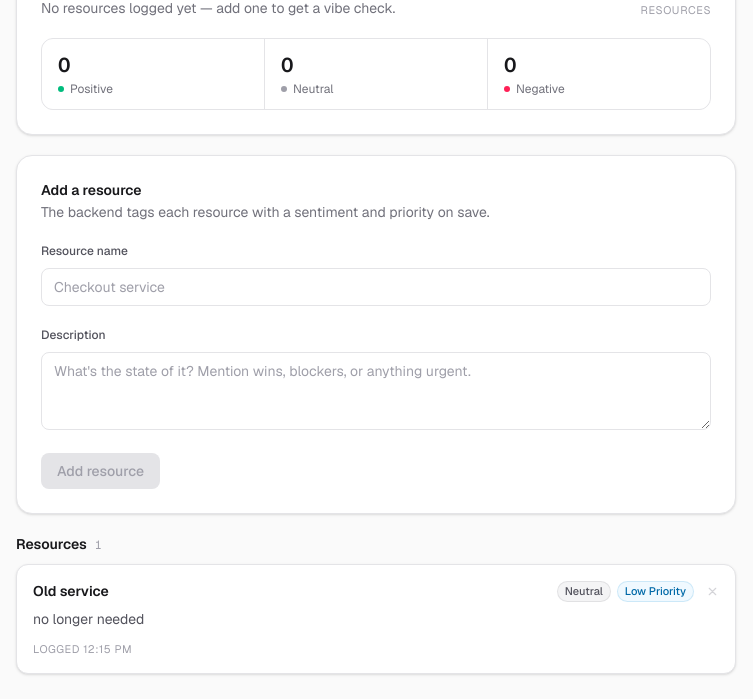
Test: App › deletes a resource when its delete button is clicked
(page scrolled)
Expected: the heading "Old service" is shown, [33, 581, 109, 601]
What coordinates should you click on to do the following:
click the button named "delete old service"
I would click on:
 (712, 592)
Its box is [702, 581, 723, 602].
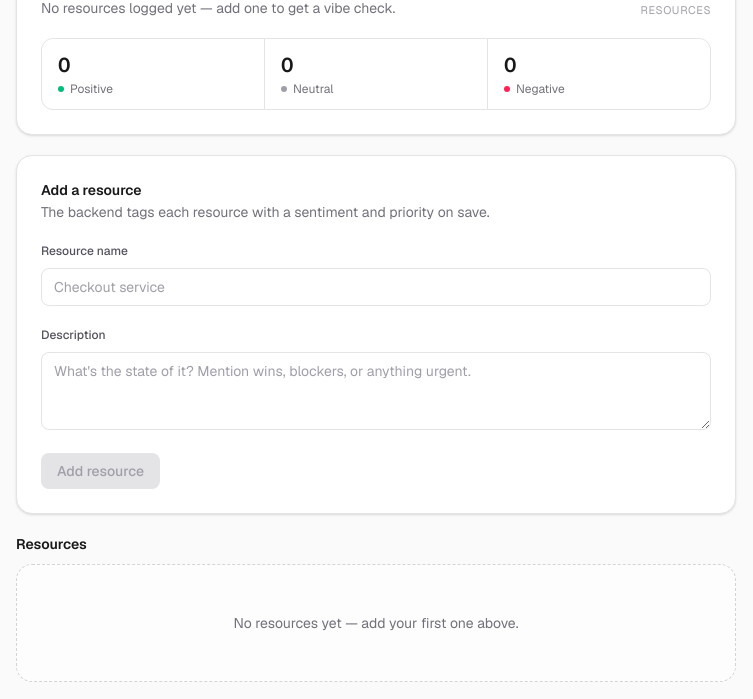
Result: the heading "Old service" is gone
